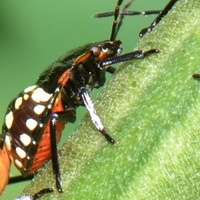insect: (117, 15, 155, 52)
